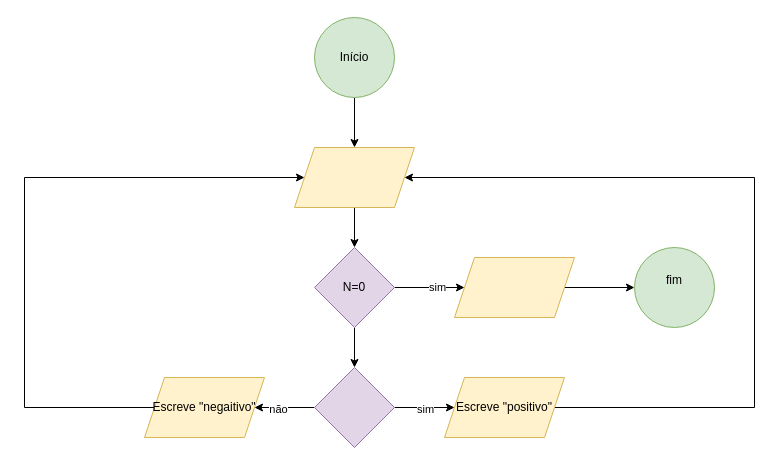
The diagram is 780 pixels wide and 465 high, and some of its shapes have lost their labels. The shapes that lost their labels are listed below. From the top down, each one's box as (x1, y1, x2, y2) in pixels, then its label:
(294, 146, 414, 208): Pedir N
(454, 256, 574, 318): Escrever "sair"
(314, 366, 394, 448): N>0
